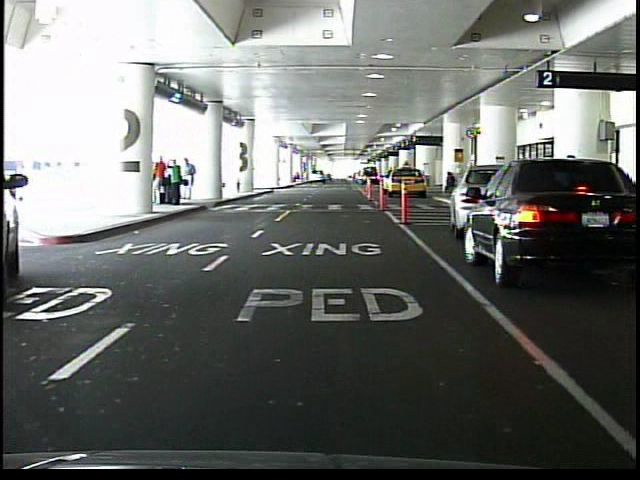person: (156, 153, 169, 206), (169, 159, 182, 206), (183, 158, 196, 201), (441, 172, 456, 194)
